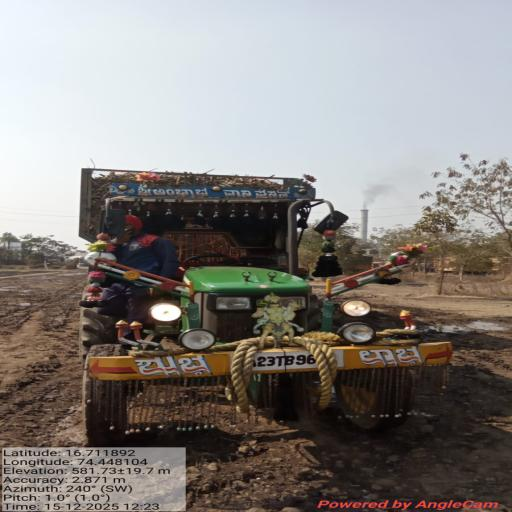number_plate: (220, 349, 346, 371)
